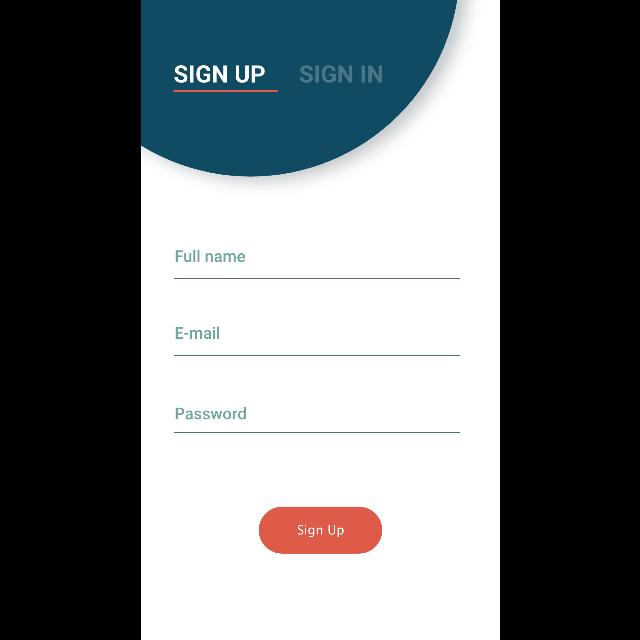input: (174, 250, 460, 280), (174, 326, 460, 356), (174, 407, 460, 433)
text: (173, 65, 264, 83), (300, 65, 382, 83), (174, 406, 246, 419), (175, 250, 245, 262), (175, 326, 219, 339)
textbutton: (258, 506, 382, 554)
